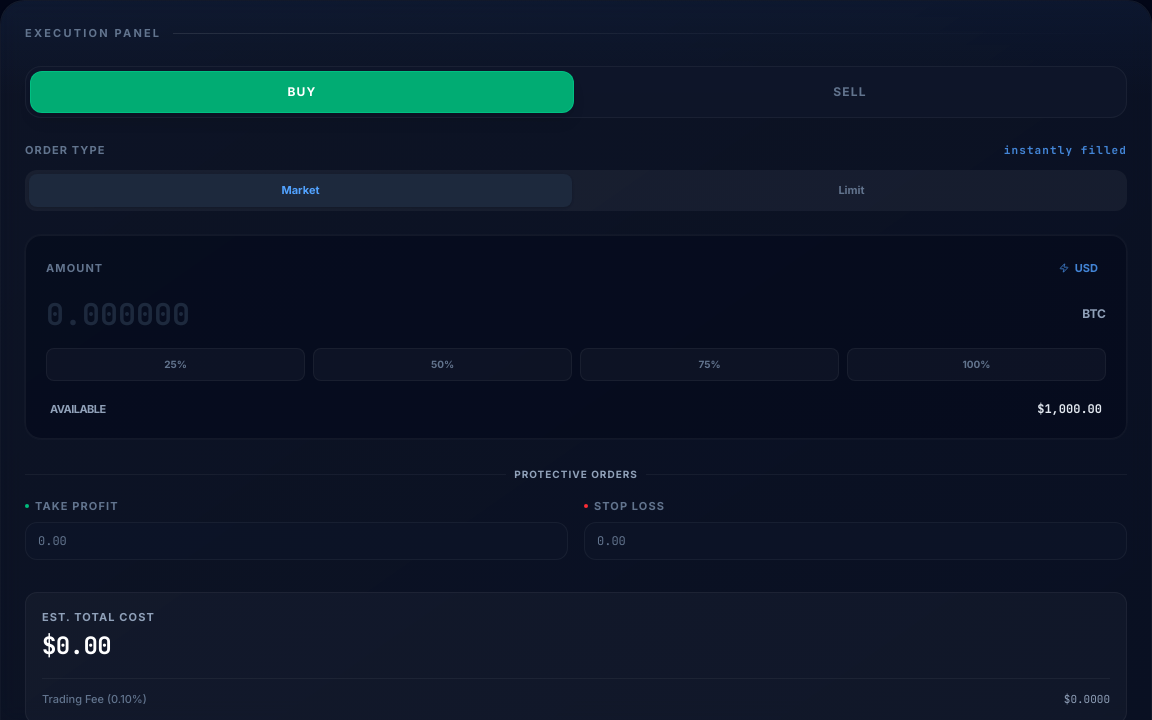
Test: TradePanel quick presets › hydrates BUY limit orders with a default price below the current market
Click the button with aria-label "Limit order - Execute at specific price": click(852, 190) [580,174,1123,206]
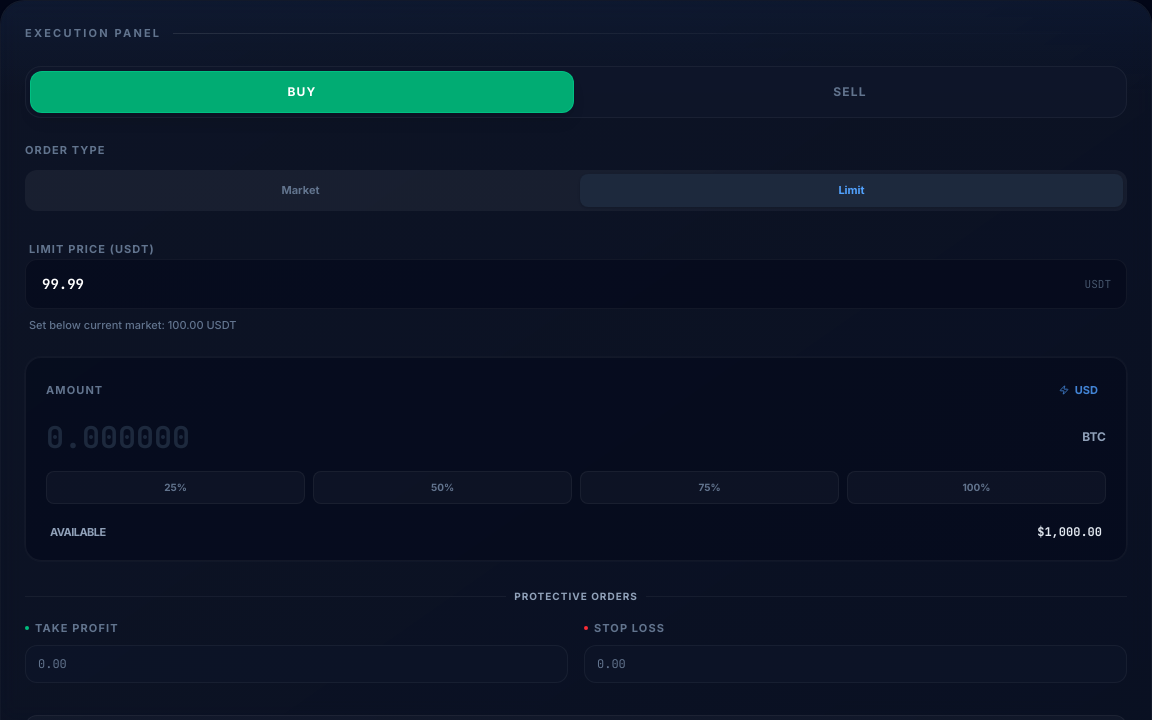
Expected: the number field named "Limit price input" holds "99.99", [25,258,1127,308]
Expected: the text "Set below current market: 100.00 USDT" is shown, [29,318,236,332]
